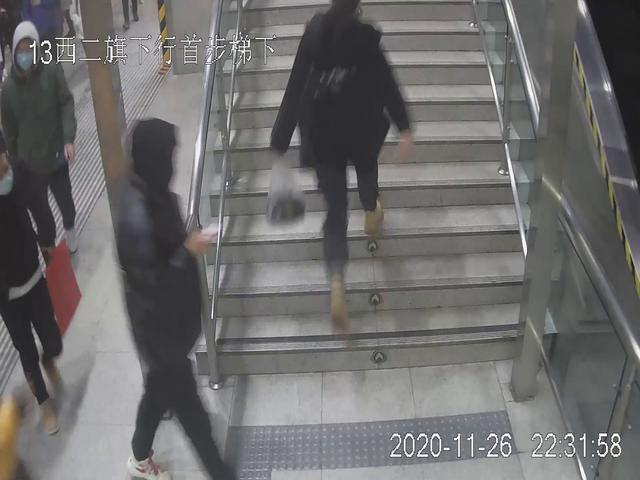person: (264, 1, 418, 344), (108, 116, 242, 480), (1, 16, 93, 274), (1, 150, 78, 438)
